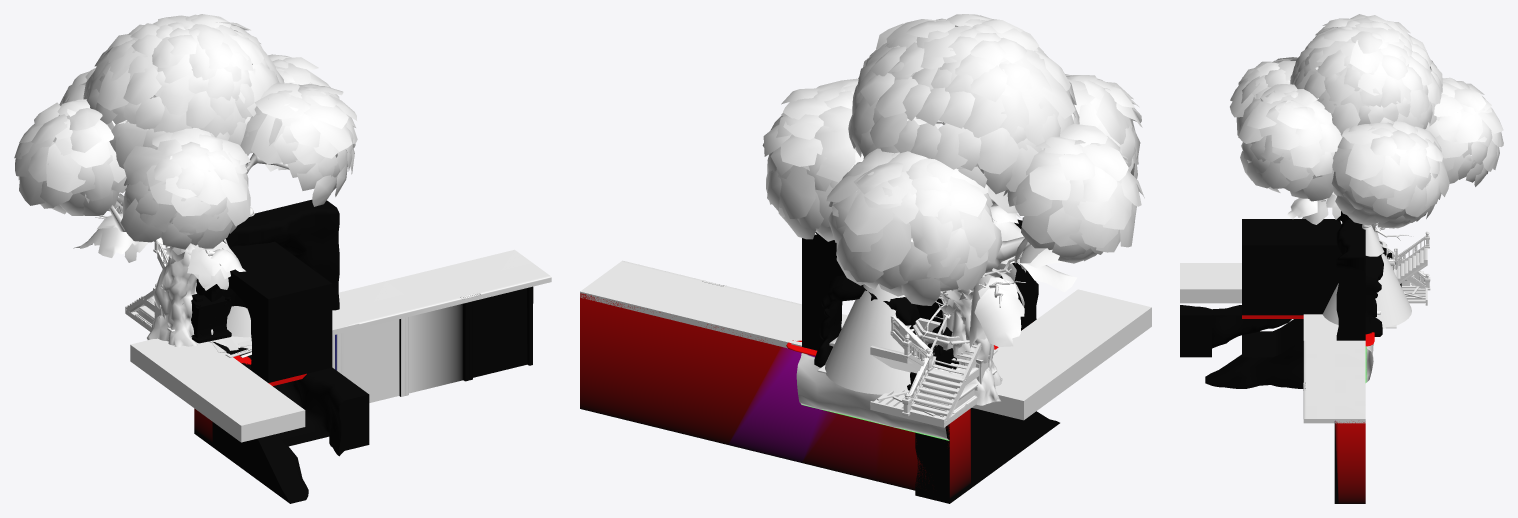
Rendered from performance-city-1.glb.
The picture shows the model from 3 angles, left to right: view 1: azimuth 30°, elevation 25°; view 2: azimuth 150°, elevation 25°; view 3: azimuth 270°, elevation 25°; orthographic projection. The views are drawn at different scales.
Visible parts, largest first — view 1: /Game/Athena/Prototype/Terrain/Athena_Tree_Large_01_CustomLO, /Game/Packages/DS_Fortnite_Terrain_NoLOD/RetainingWalls/S_Wa, /Game/Packages/DS_Fortnite_Terrain_NoLOD/Elevation/S_Cave_Tu, /Game/Packages/DS_Fortnite_Terrain_NoLOD/RetainingWalls/S_Un, /Game/Environments/World/Sidewalks/Meshes/S_Sidewalk_1x5, /Game/Packages/DS_Fortnite_Terrain_NoLOD/Elevation/S_Cave_En, /Game/Packages/DS_Fortnite_Terrain_NoLOD/Elevation/S_GeoSlop, /Game/Packages/DS_Fortnite_Terrain_NoLOD/Elevation/S_Cave_Ra, /Game/Athena/Environments/Meshes/Athena_Pine_02, /Game/Vehicles/FORT_Vehicles_01/Meshes/Car_Icecream_Van_01, /Game/Environments/Props/Street/Meshes/StreetProp_Streetligh; view 2: /Game/Athena/Prototype/Terrain/Athena_Tree_Large_01_CustomLO, /Game/Packages/DS_Fortnite_Terrain_NoLOD/RetainingWalls/S_Wa, /Game/Packages/DS_Fortnite_Terrain_NoLOD/RetainingWalls/S_Un, /Game/Environments/World/Sidewalks/Meshes/S_Sidewalk_1x5, /Game/Athena/Environments/Meshes/Athena_Pine_02, /Game/Packages/DS_Fortnite_Terrain_NoLOD/Elevation/S_Cave_Ra, /Game/Packages/DS_Fortnite_Terrain_NoLOD/Elevation/S_Cave_En, /Game/Environments/Props/Street/Meshes/StreetProp_Streetligh, /Game/Packages/DS_Fortnite_Terrain_NoLOD/Elevation/S_Undergr, /Game/Environments/Sets/Victorian/Meshes/WoodHouse_StairsDou, /Game/Environments/Sets/NeoClassical/Meshes/SM_Fort_Neo_Clas, /Game/Environments/Sets/FireEscapes/Meshes/FireEscapeStairF (+5 smaller); view 3: /Game/Athena/Prototype/Terrain/Athena_Tree_Large_01_CustomLO, /Game/Packages/DS_Fortnite_Terrain_NoLOD/Elevation/S_Cave_Tu, /Game/Environments/World/Sidewalks/Meshes/S_Sidewalk_1x5, /Game/Packages/DS_Fortnite_Terrain_NoLOD/Elevation/S_Cave_En, /Game/Packages/DS_Fortnite_Terrain_NoLOD/Elevation/S_Cave_Ra (×2), /Game/Packages/DS_Fortnite_Terrain_NoLOD/Elevation/S_GeoSlop, /Game/Packages/DS_Fortnite_Terrain_NoLOD/RetainingWalls/S_Wa, /Game/Packages/DS_Fortnite_Terrain_NoLOD/RetainingWalls/S_Un, /Game/Environments/Props/Street/Meshes/StreetProp_Streetligh, /Game/Athena/Environments/Meshes/Athena_Pine_02, /Game/Environments/World/Sidewalks/Meshes/S_Sidewalk_1x2_NoC, /Game/Environments/Sets/Victorian/Meshes/WoodHouse_StairsDou (+1 smaller).
Boxes of the visible parts, bbox=[...] form: /Game/Athena/Prototype/Terrain/Athena_Tree_Large_01_CustomLO: bbox=[14, 14, 357, 347]; /Game/Packages/DS_Fortnite_Terrain_NoLOD/RetainingWalls/S_Wa: bbox=[194, 286, 533, 442]; /Game/Packages/DS_Fortnite_Terrain_NoLOD/Elevation/S_Cave_Tu: bbox=[204, 241, 332, 382]; /Game/Packages/DS_Fortnite_Terrain_NoLOD/RetainingWalls/S_Un: bbox=[130, 338, 305, 442]; /Game/Environments/World/Sidewalks/Meshes/S_Sidewalk_1x5: bbox=[216, 249, 551, 348]; /Game/Packages/DS_Fortnite_Terrain_NoLOD/Elevation/S_Cave_En: bbox=[215, 199, 339, 310]; /Game/Packages/DS_Fortnite_Terrain_NoLOD/Elevation/S_GeoSlop: bbox=[273, 367, 369, 456]; /Game/Packages/DS_Fortnite_Terrain_NoLOD/Elevation/S_Cave_Ra: bbox=[194, 422, 308, 503]; /Game/Athena/Environments/Meshes/Athena_Pine_02: bbox=[73, 193, 245, 290]; /Game/Vehicles/FORT_Vehicles_01/Meshes/Car_Icecream_Van_01: bbox=[191, 279, 231, 343]; /Game/Environments/Props/Street/Meshes/StreetProp_Streetligh: bbox=[226, 207, 254, 337]; /Game/Athena/Prototype/Terrain/Athena_Tree_Large_01_CustomLO: bbox=[762, 14, 1144, 405]; /Game/Packages/DS_Fortnite_Terrain_NoLOD/RetainingWalls/S_Wa: bbox=[580, 293, 970, 498]; /Game/Packages/DS_Fortnite_Terrain_NoLOD/RetainingWalls/S_Un: bbox=[972, 289, 1151, 420]; /Game/Environments/World/Sidewalks/Meshes/S_Sidewalk_1x5: bbox=[580, 260, 843, 348]; /Game/Athena/Environments/Meshes/Athena_Pine_02: bbox=[916, 117, 1076, 347]; /Game/Packages/DS_Fortnite_Terrain_NoLOD/Elevation/S_Cave_Ra: bbox=[915, 408, 1059, 503]; /Game/Packages/DS_Fortnite_Terrain_NoLOD/Elevation/S_Cave_En: bbox=[802, 232, 942, 367]; /Game/Environments/Props/Street/Meshes/StreetProp_Streetligh: bbox=[825, 284, 946, 394]; /Game/Packages/DS_Fortnite_Terrain_NoLOD/Elevation/S_Undergr: bbox=[796, 353, 949, 440]; /Game/Environments/Sets/Victorian/Meshes/WoodHouse_StairsDou: bbox=[870, 334, 979, 419]; /Game/Environments/Sets/NeoClassical/Meshes/SM_Fort_Neo_Clas: bbox=[870, 340, 979, 419]; /Game/Environments/Sets/FireEscapes/Meshes/FireEscapeStairF: bbox=[909, 316, 981, 423]; /Game/Athena/Prototype/Terrain/Athena_Tree_Large_01_CustomLO: bbox=[1230, 14, 1503, 240]; /Game/Packages/DS_Fortnite_Terrain_NoLOD/Elevation/S_Cave_Tu: bbox=[1242, 219, 1341, 315]; /Game/Environments/World/Sidewalks/Meshes/S_Sidewalk_1x5: bbox=[1303, 318, 1365, 423]; /Game/Packages/DS_Fortnite_Terrain_NoLOD/Elevation/S_Cave_En: bbox=[1336, 211, 1386, 340]; /Game/Packages/DS_Fortnite_Terrain_NoLOD/Elevation/S_Cave_Ra (×2): bbox=[1205, 319, 1303, 388]; /Game/Packages/DS_Fortnite_Terrain_NoLOD/Elevation/S_GeoSlop: bbox=[1180, 305, 1291, 357]; /Game/Packages/DS_Fortnite_Terrain_NoLOD/RetainingWalls/S_Wa: bbox=[1334, 420, 1365, 503]; /Game/Packages/DS_Fortnite_Terrain_NoLOD/RetainingWalls/S_Un: bbox=[1180, 263, 1241, 303]; /Game/Environments/Props/Street/Meshes/StreetProp_Streetligh: bbox=[1322, 224, 1411, 328]; /Game/Athena/Environments/Meshes/Athena_Pine_02: bbox=[1287, 192, 1411, 240]; /Game/Environments/World/Sidewalks/Meshes/S_Sidewalk_1x2_NoC: bbox=[1303, 314, 1338, 340]; /Game/Environments/Sets/Victorian/Meshes/WoodHouse_StairsDou: bbox=[1393, 231, 1429, 281].
Bounding box in the file's own units: 38.74 × 31.62 × 26.8.
